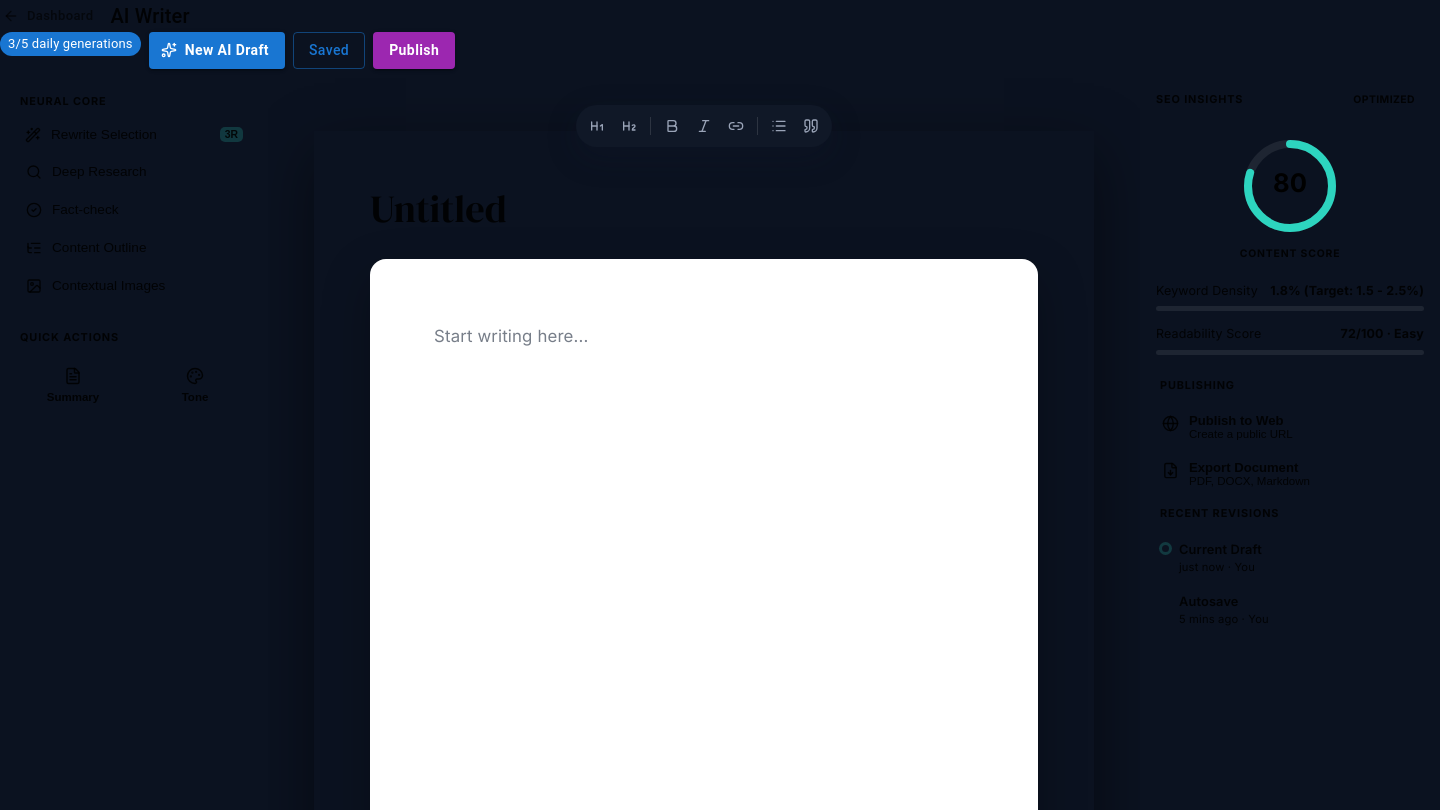
Test: AI Writer — server refusal › shows the server's message and claims no success
The width and height of the screenshot is (1440, 810).
Click the button "New AI Draft": (217, 50) top-left (149, 32), bottom-right (285, 68)
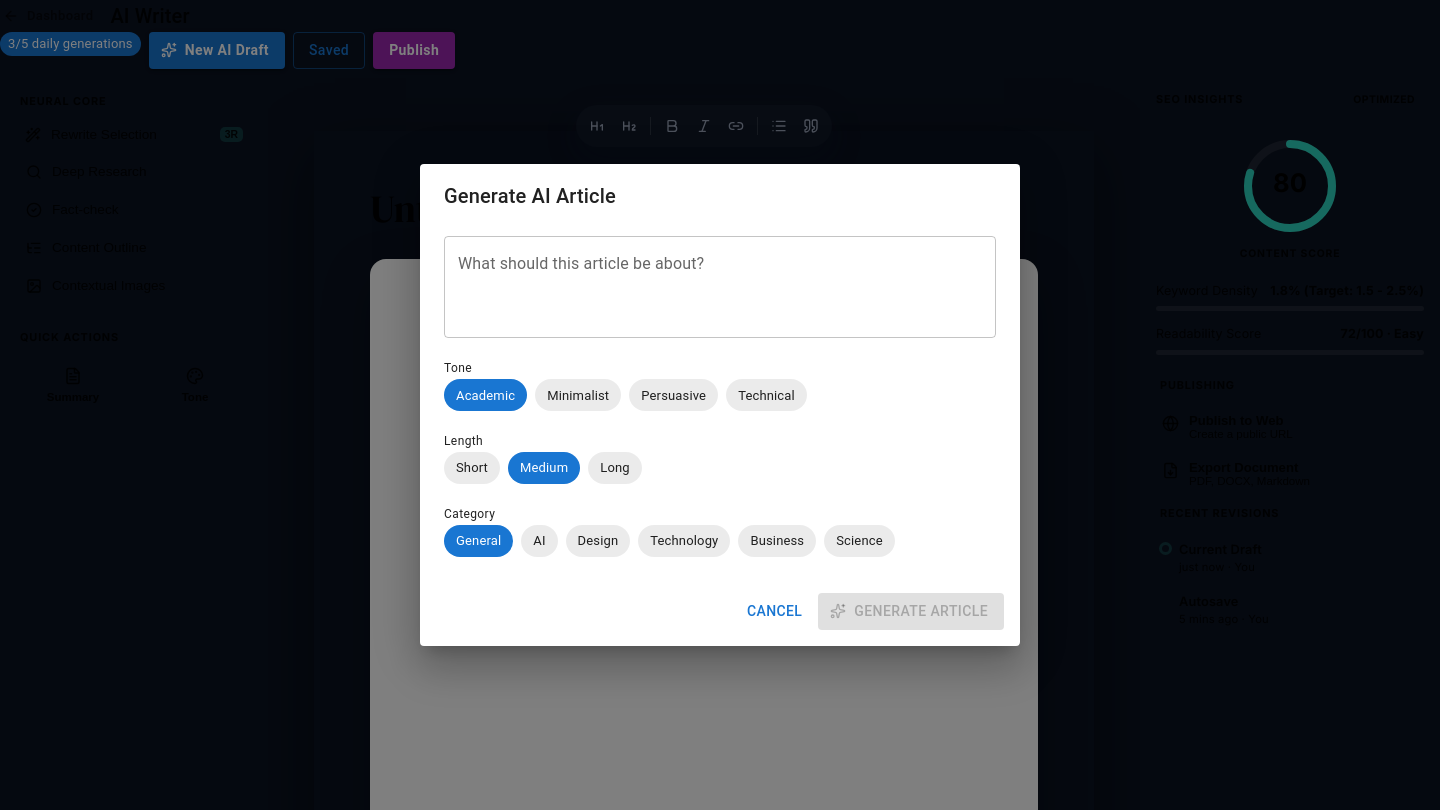
In the text box labelled "What should this article be about?": (720, 287) top-left (458, 253), bottom-right (982, 322), type "neural prose"
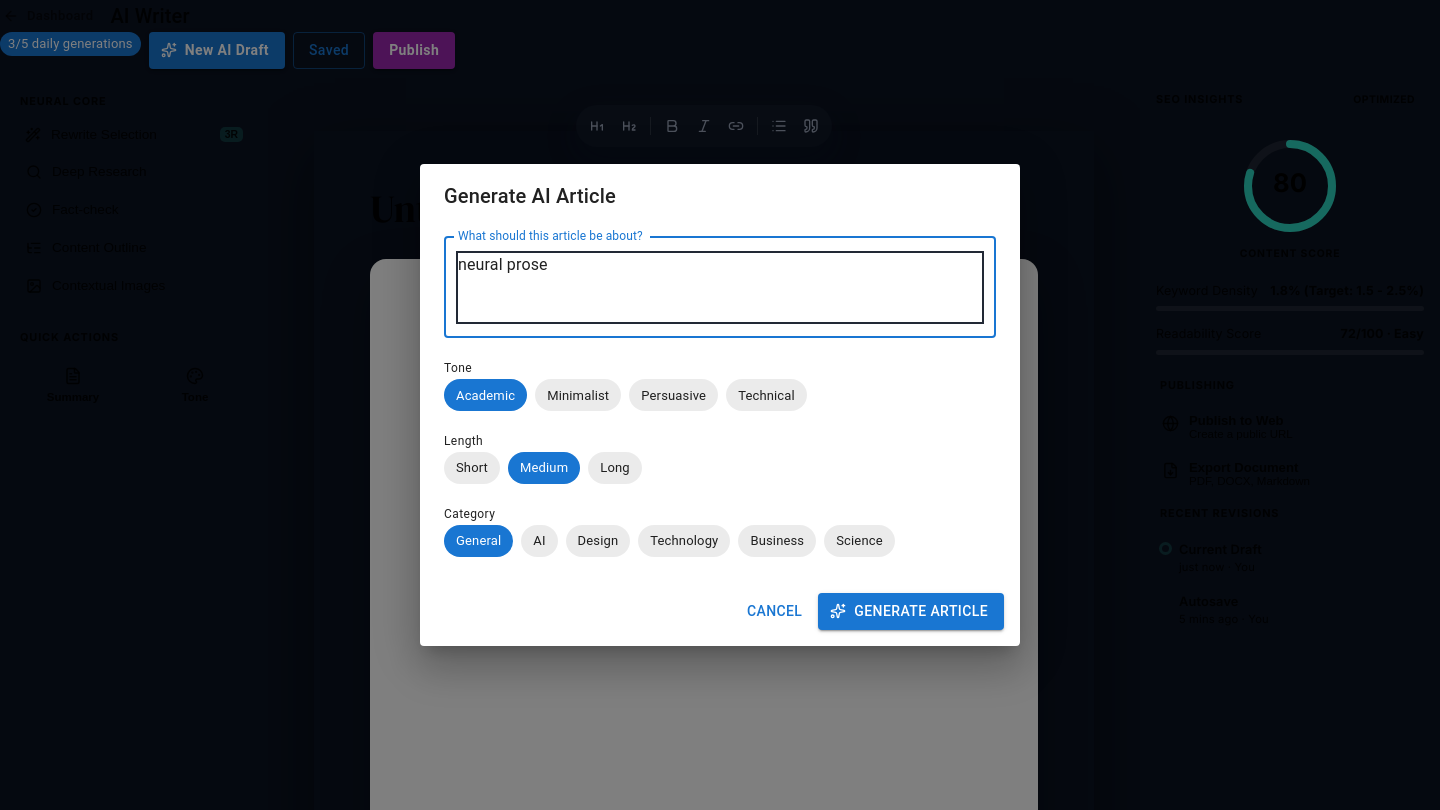
Click the button "Generate Article": (911, 611) top-left (818, 593), bottom-right (1004, 630)
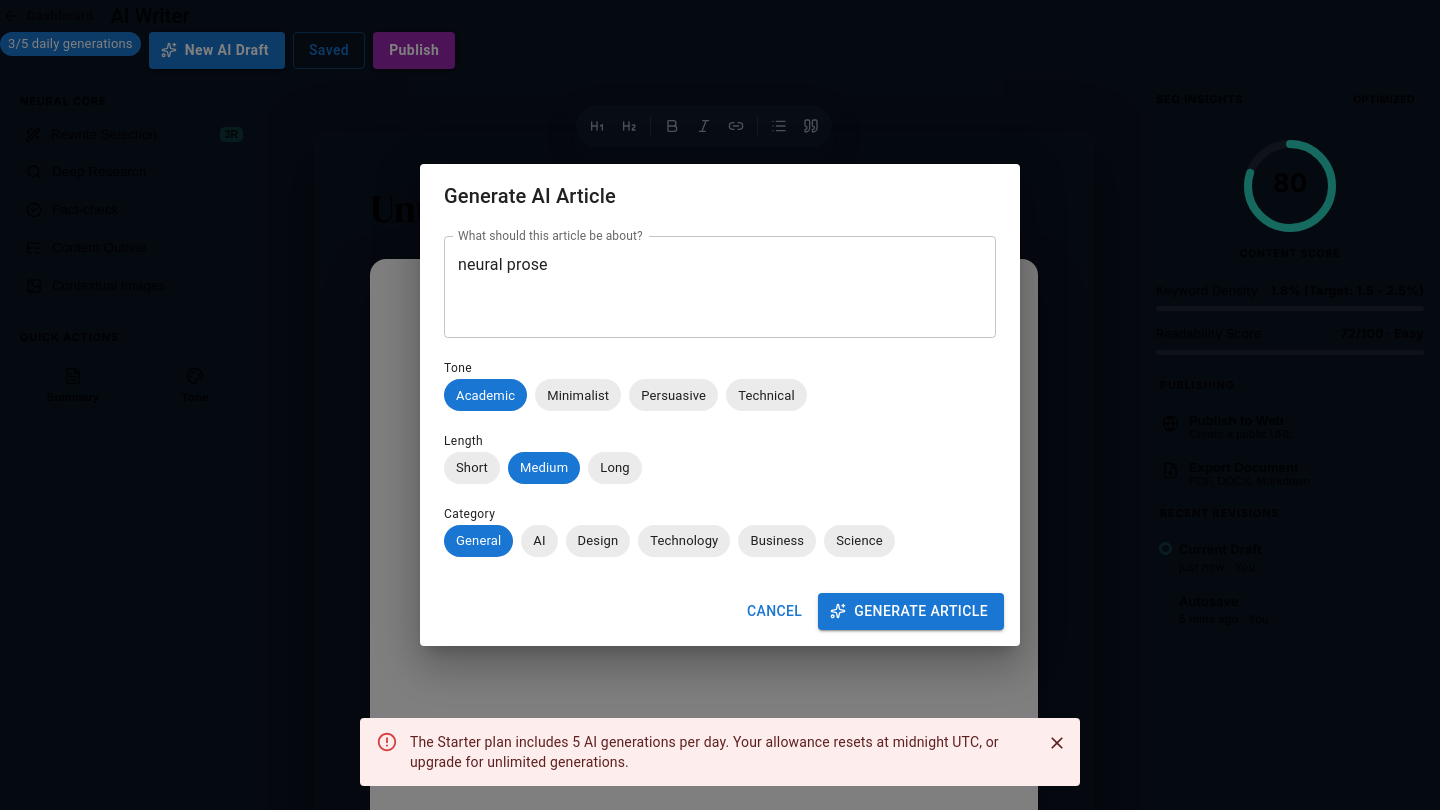
Result: the text "resets at midnight UTC" is shown at top-left (410, 734), bottom-right (999, 770)
